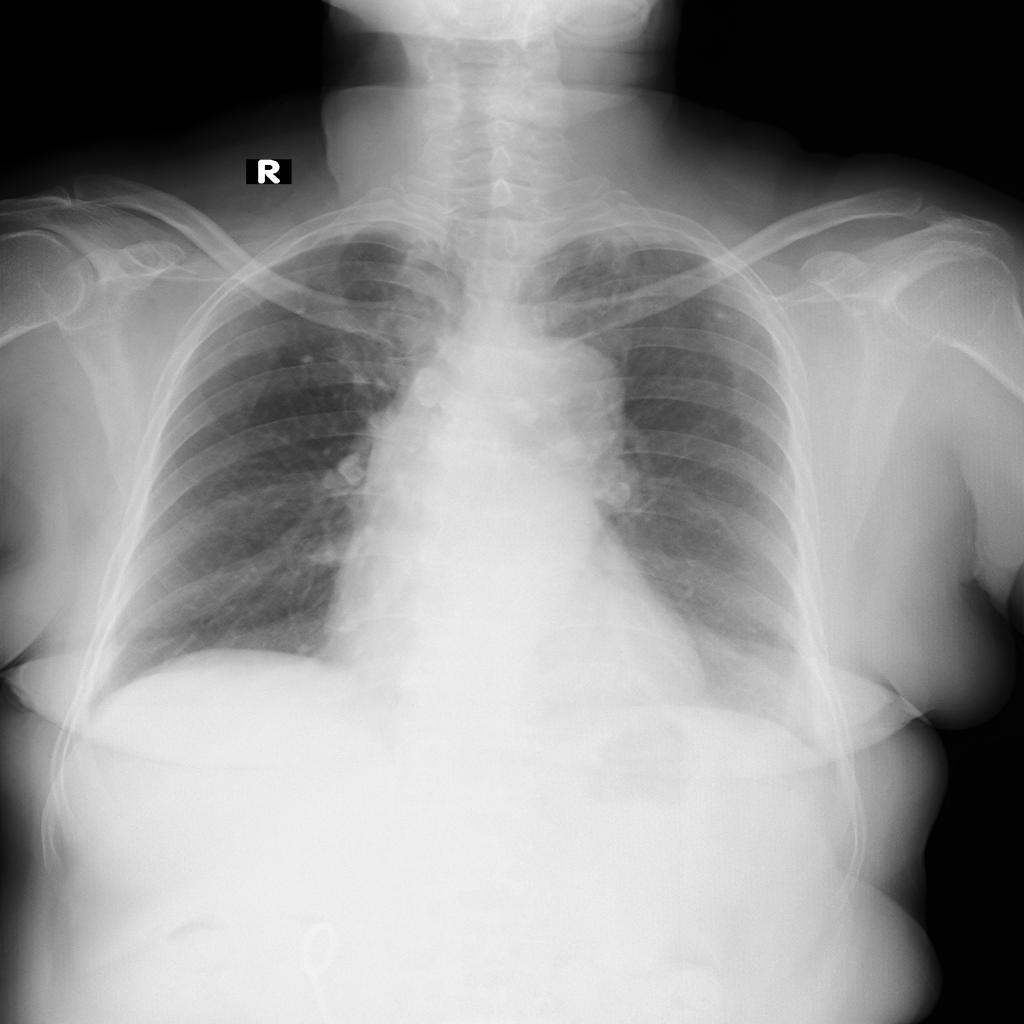Nodule: (413, 369, 443, 406)
